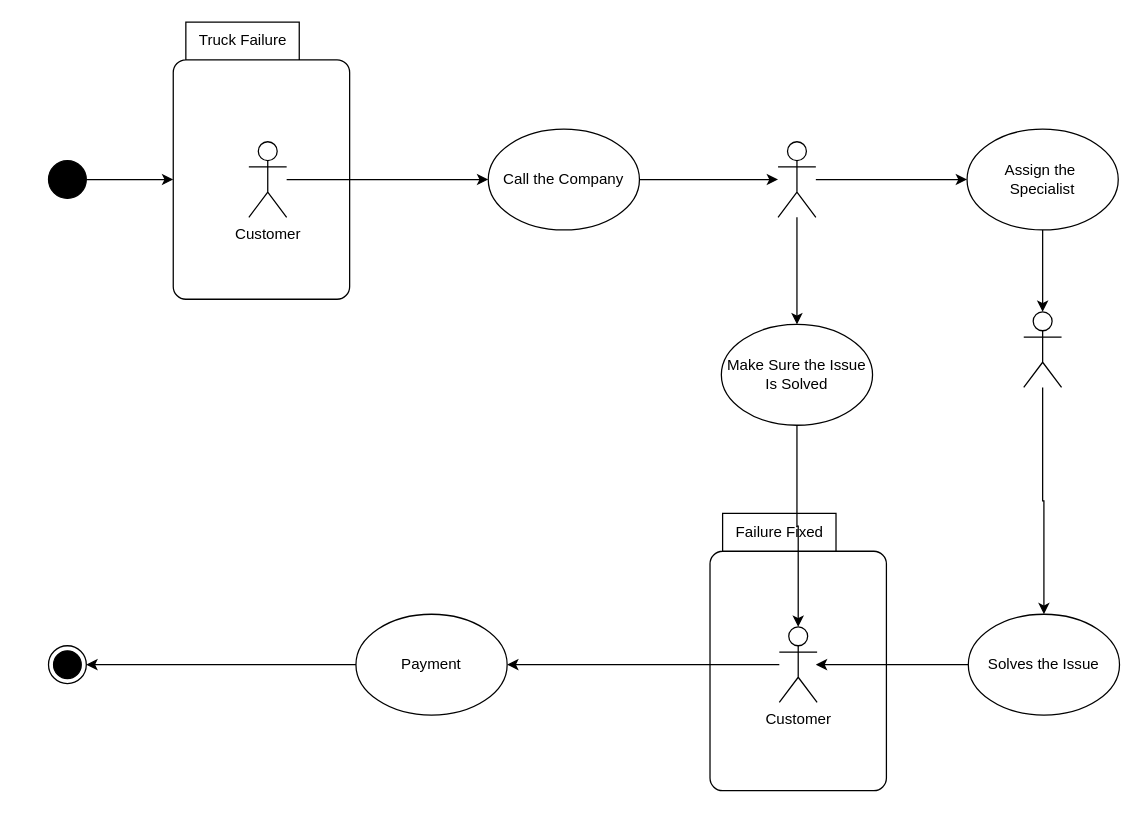
Some shapes in this 1142 by 813 pixel diagram are drawn without their labels. Here are the shapes that lost their labels. From the top down, the centre of each, then its label:
the point at 66,178: Truck Failure Event
the point at 796,178: Attendant
the point at 1042,349: Specialist
the point at 66,664: Truck Failure Fixed
